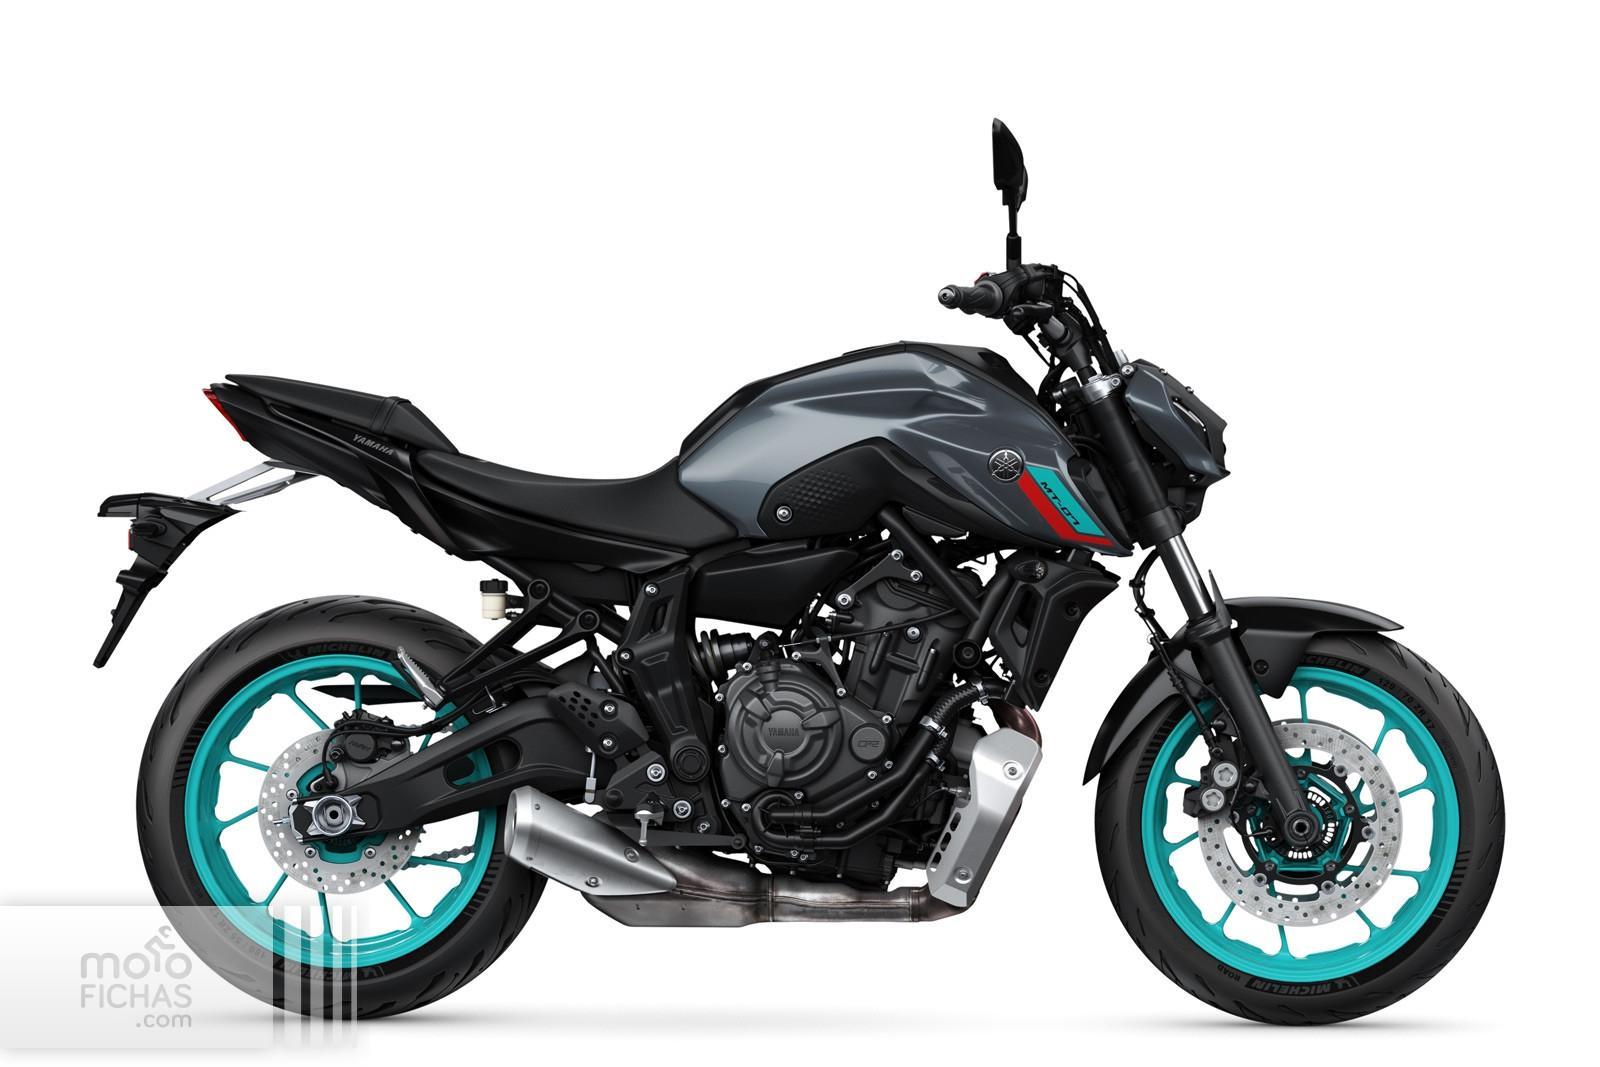engine-chasis: (549, 506, 1045, 907)
exhaust: (501, 786, 970, 928), (988, 699, 1042, 748)
frontside: (974, 356, 1406, 851)
handlebar: (936, 118, 1120, 454)
motorbike: (137, 235, 1502, 1022)
rearside: (88, 373, 777, 842)
seat: (415, 450, 729, 549), (225, 373, 455, 453)
tank: (680, 341, 1135, 556)
watermark: (0, 901, 360, 1067)
wheel: (136, 597, 545, 1019), (1095, 632, 1506, 1028), (1127, 549, 1276, 840), (320, 669, 570, 788)
